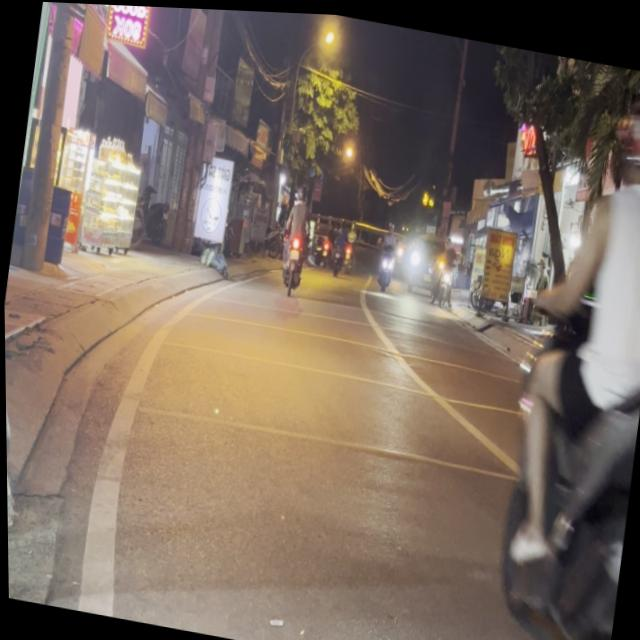helmet: (609, 95, 640, 191)
licenseplate: (471, 65, 640, 640)
